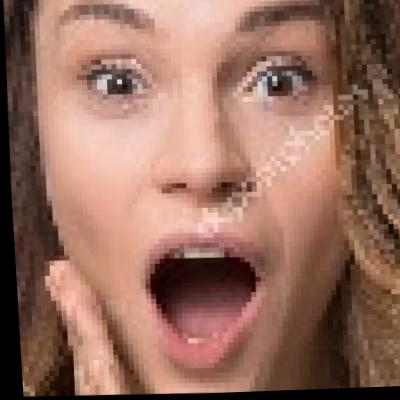surprise: (26, 0, 357, 399)
